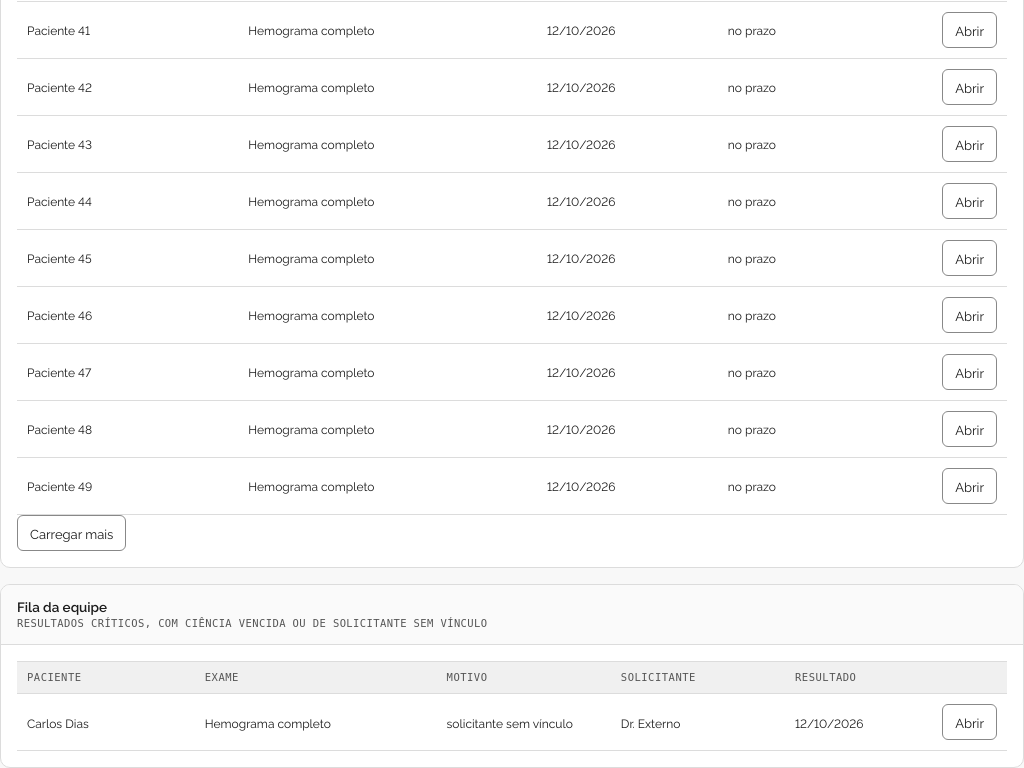
Test: ExamAcknowledgements › com próxima página: 50+ e Carregar mais usa o cursor
The image size is (1024, 768).
(page scrolled)
Click the button "Carregar mais": (72, 533) x1=17 y1=515 x2=126 y2=551
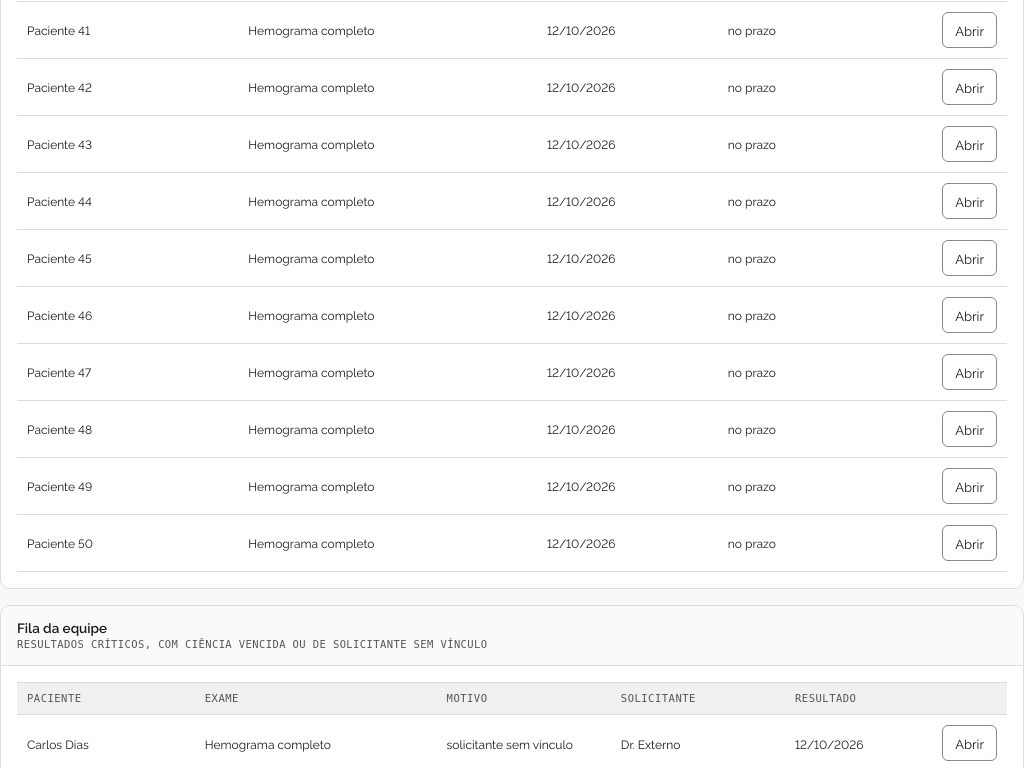
Result: the text "Paciente 50" is shown at x1=27 y1=534 x2=93 y2=551
